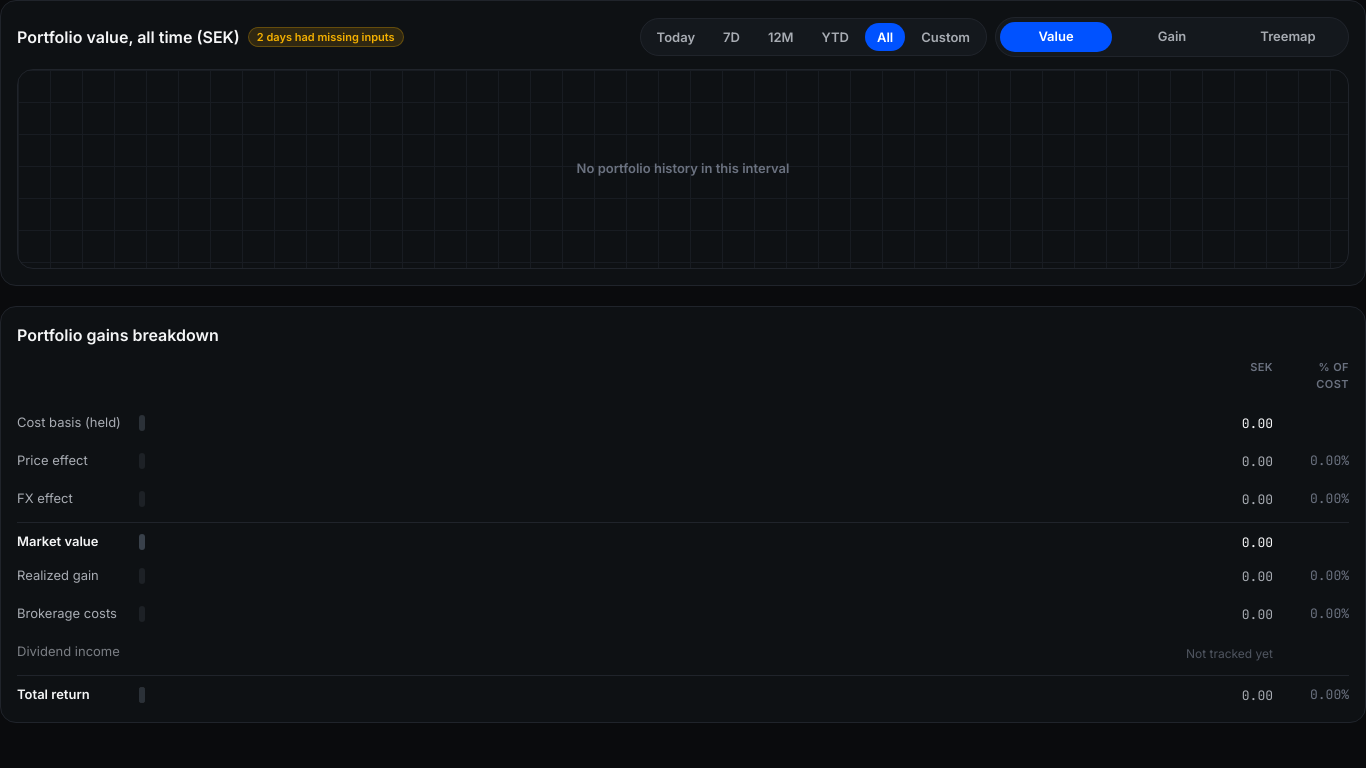
Test case: Dashboard gain view › explains a period whose every day is missing prices
This screenshot has width=1366, height=768.
Click the button "Gain": [1172, 37] box left=1116, top=22, right=1228, bottom=52
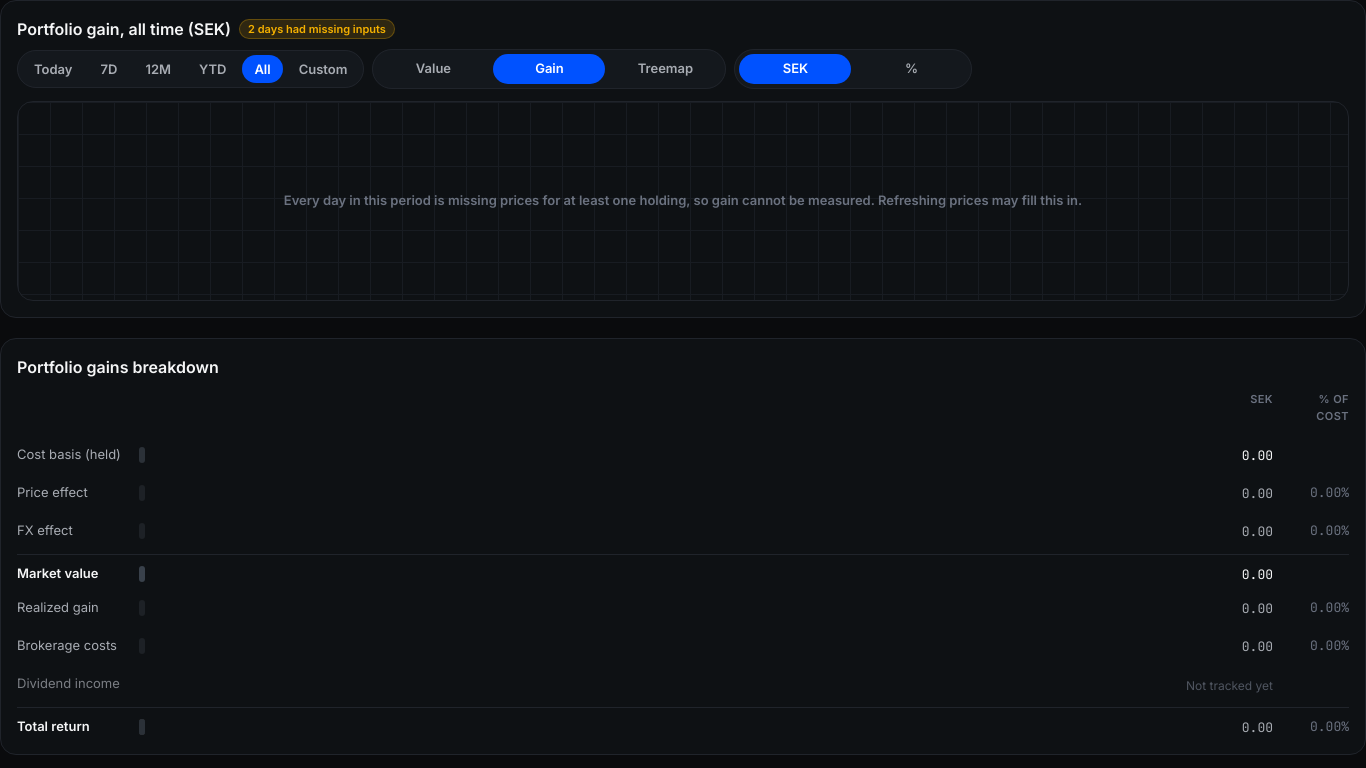
Result: the text "missing prices for at least one holding" is shown at left=284, top=192, right=1082, bottom=208
